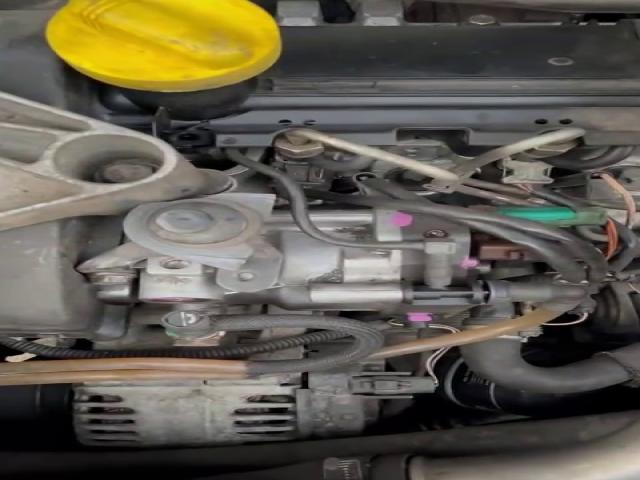alternator: (73, 373, 299, 447)
high_pressure_pump: (88, 210, 488, 327)
